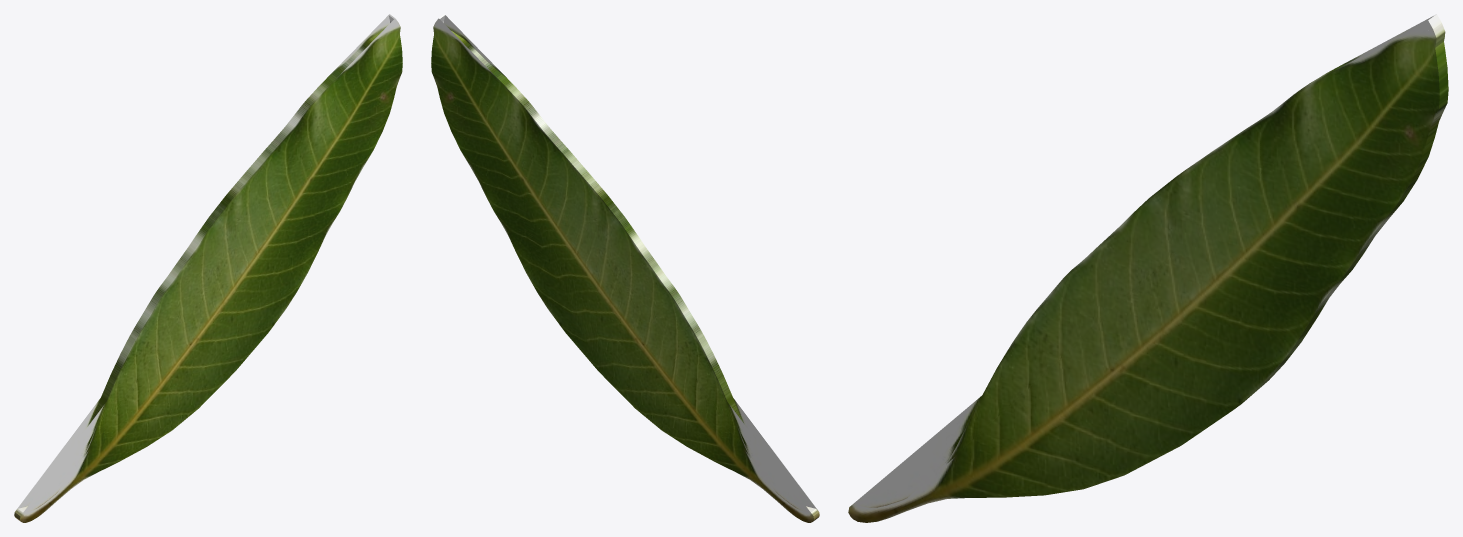
Rendered from DaunMangga.fbx.
The picture shows the model from 3 angles, left to right: view 1: azimuth 30°, elevation 25°; view 2: azimuth 150°, elevation 25°; view 3: azimuth 330°, elevation 25°; orthographic projection. The views are drawn at different scales.
Visible parts, largest first — view 1: Trace; view 2: Trace; view 3: Trace.
Boxes of the visible parts, bbox=[...] form: Trace: bbox=[14, 14, 402, 522]; Trace: bbox=[431, 14, 819, 522]; Trace: bbox=[848, 14, 1448, 522].
Bounding box in the file's own units: 1538 × 1591 × 39.64.
1 material, 1 textured.
